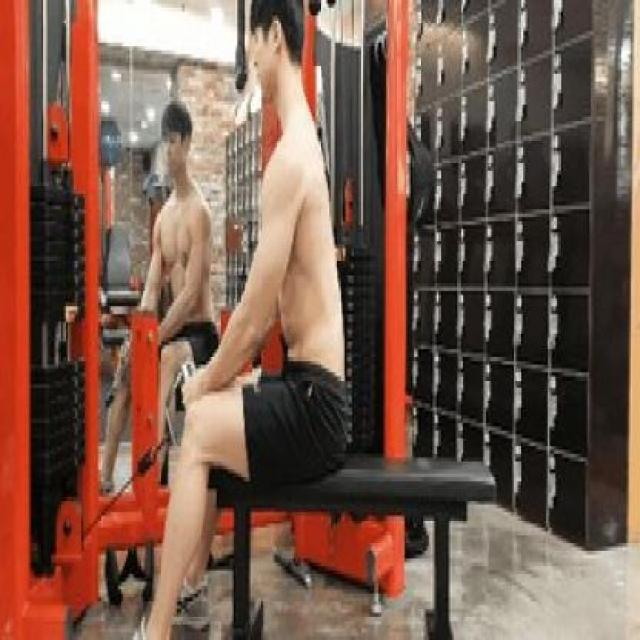Seated Cable Rows: (0, 0, 415, 640)
